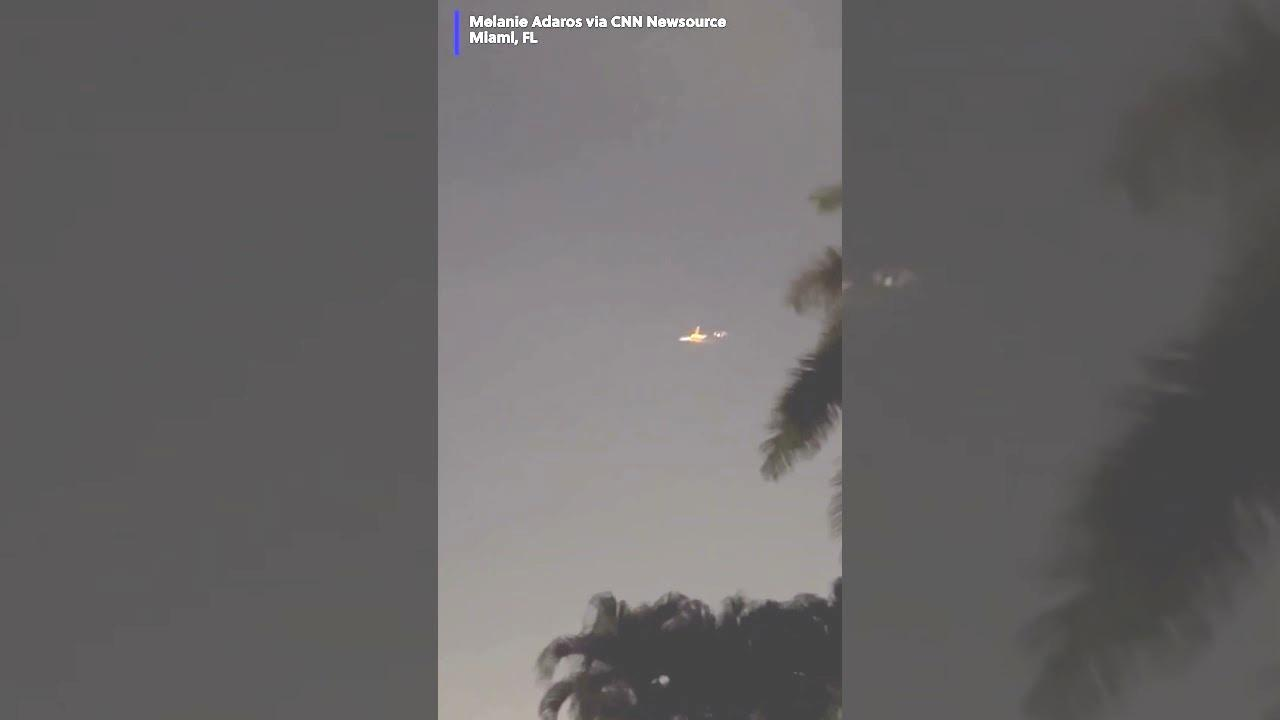Plane: (647, 315, 749, 357)
